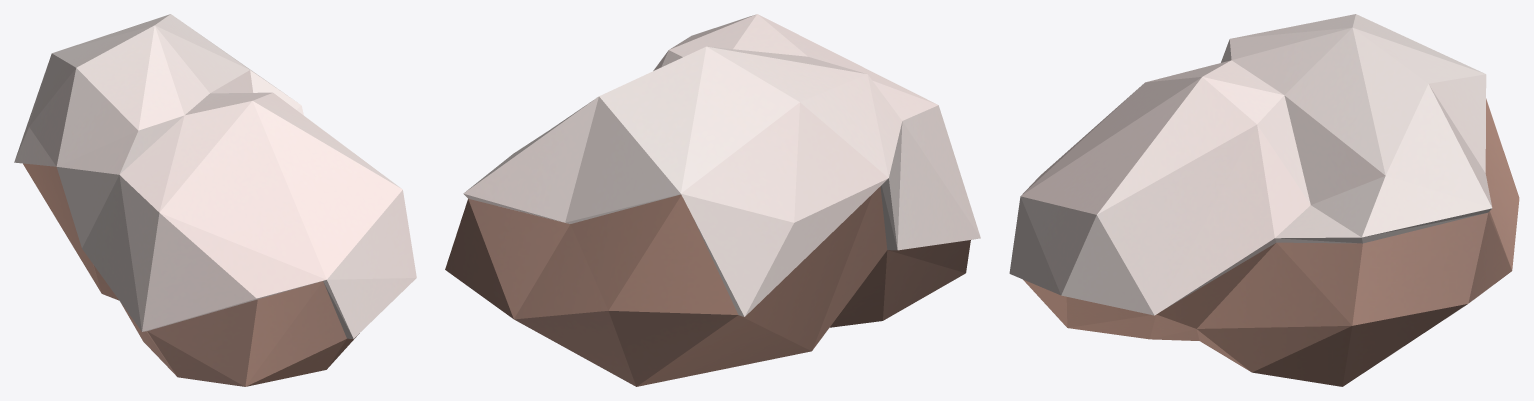
File: Rock_3A.fbx
3 views of the same model, side by side, from view 1: azimuth 30°, elevation 25°; view 2: azimuth 150°, elevation 25°; view 3: azimuth 270°, elevation 25° (orthographic). The views are drawn at different scales.
Parts seen in each view (by area): view 1: Group64603; view 2: Group64603; view 3: Group64603.
Boxes of the visible parts, <box> form: Group64603: <box>14,14,416,386</box>; Group64603: <box>445,14,980,386</box>; Group64603: <box>1009,14,1519,386</box>.
Size of the model in its own units: 1.92 by 1.72 by 2.65.
1 material, 1 textured.
